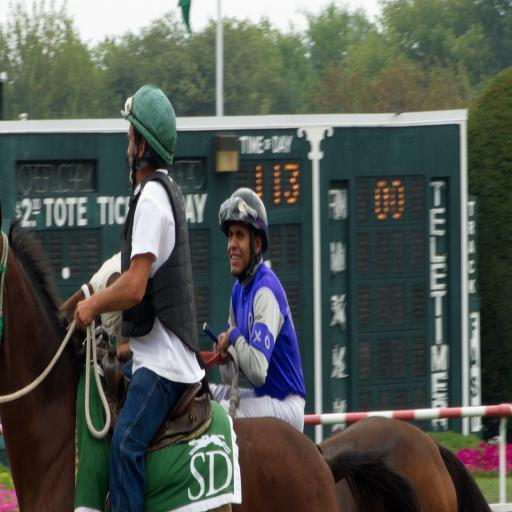horse: (0, 212, 423, 512), (59, 248, 495, 512), (315, 412, 489, 512)
